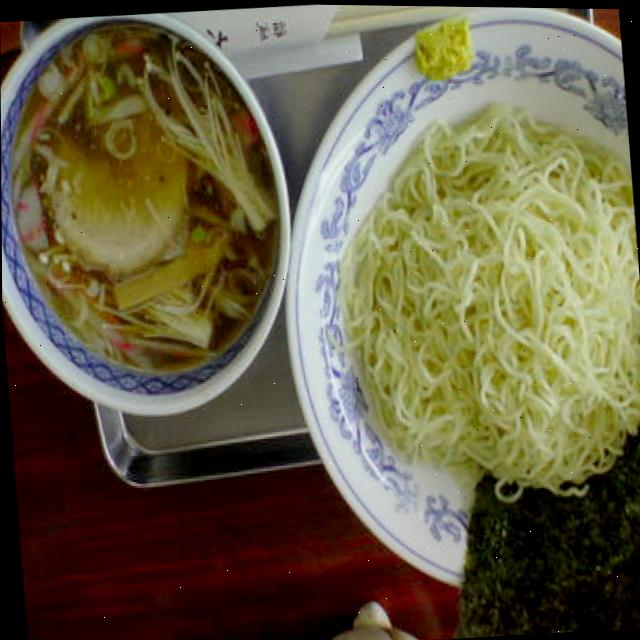面条主食: (190, 2, 640, 640)
